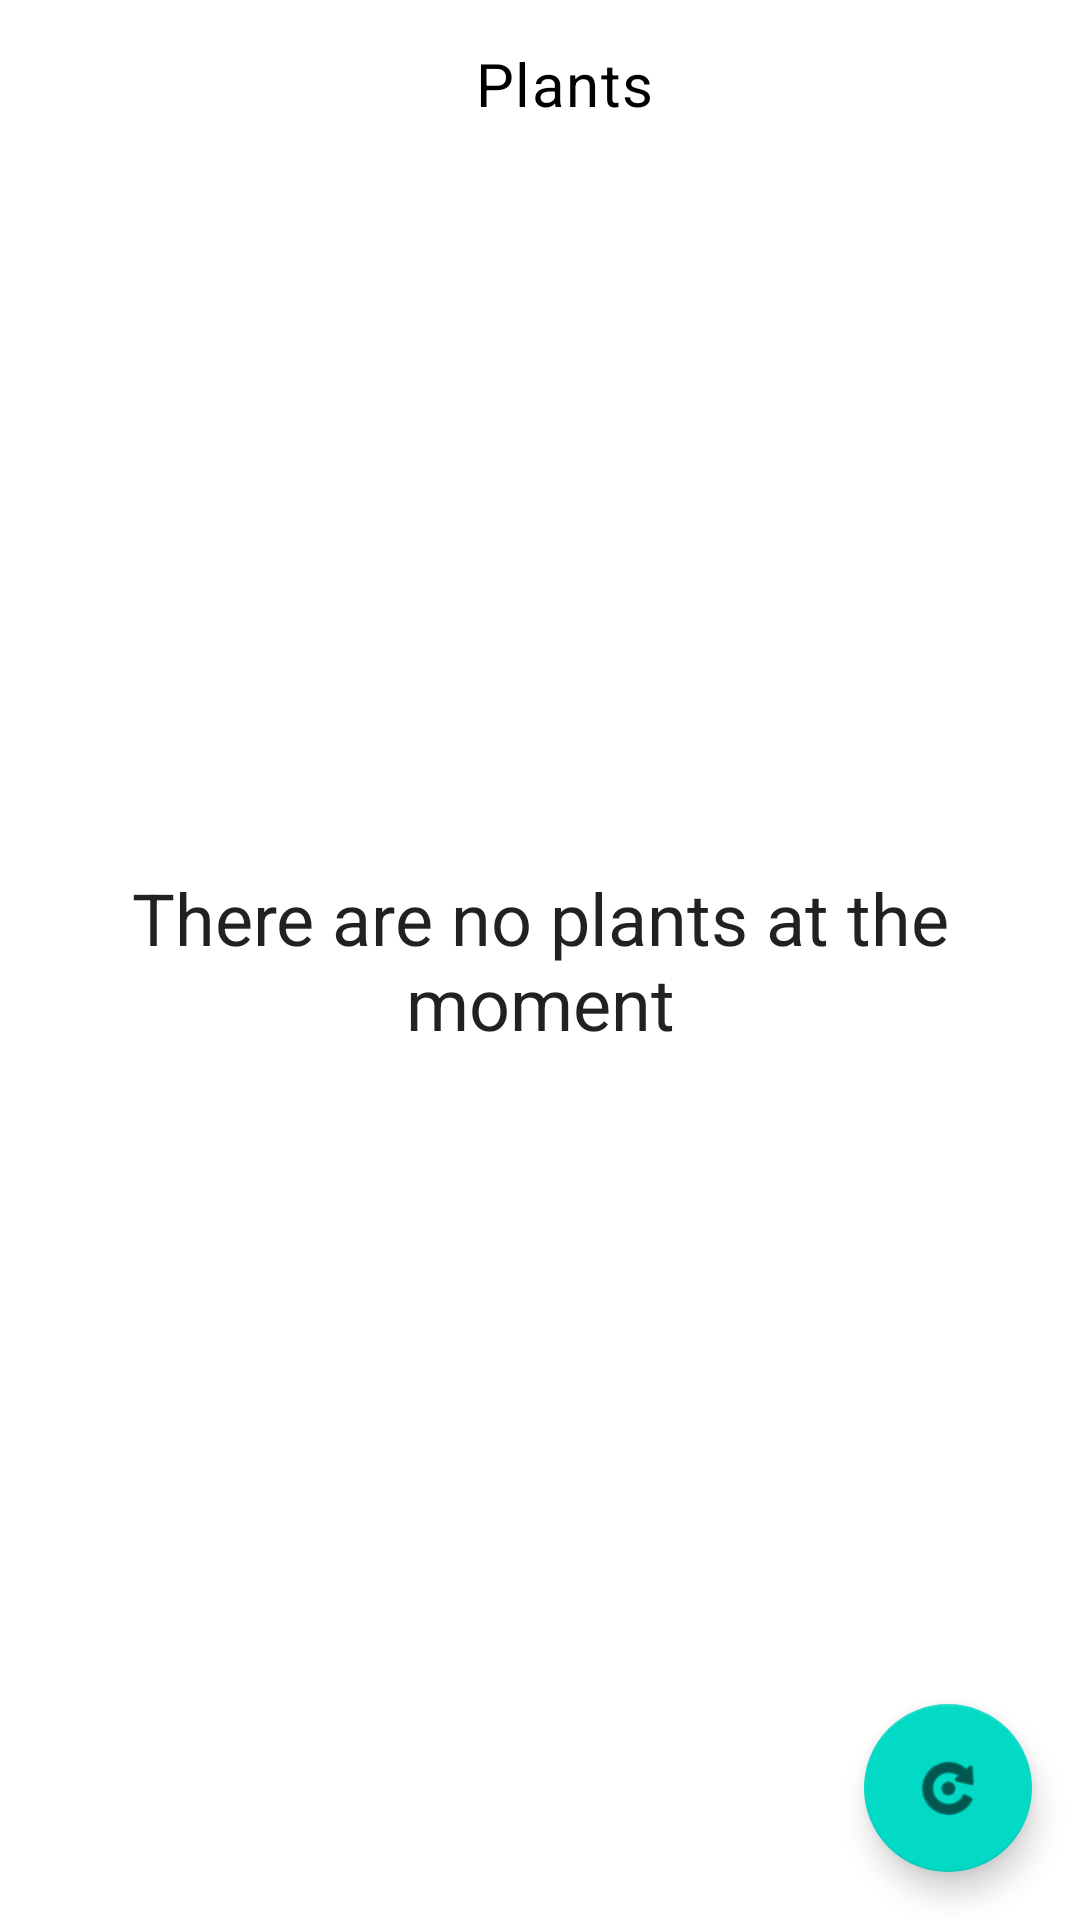

Named icons in this screenshot (1080w x 1920h) and their bounding boxes, bbox=[x1, y1, x2, y2]:
rotate: bbox=[864, 1704, 1032, 1872]
